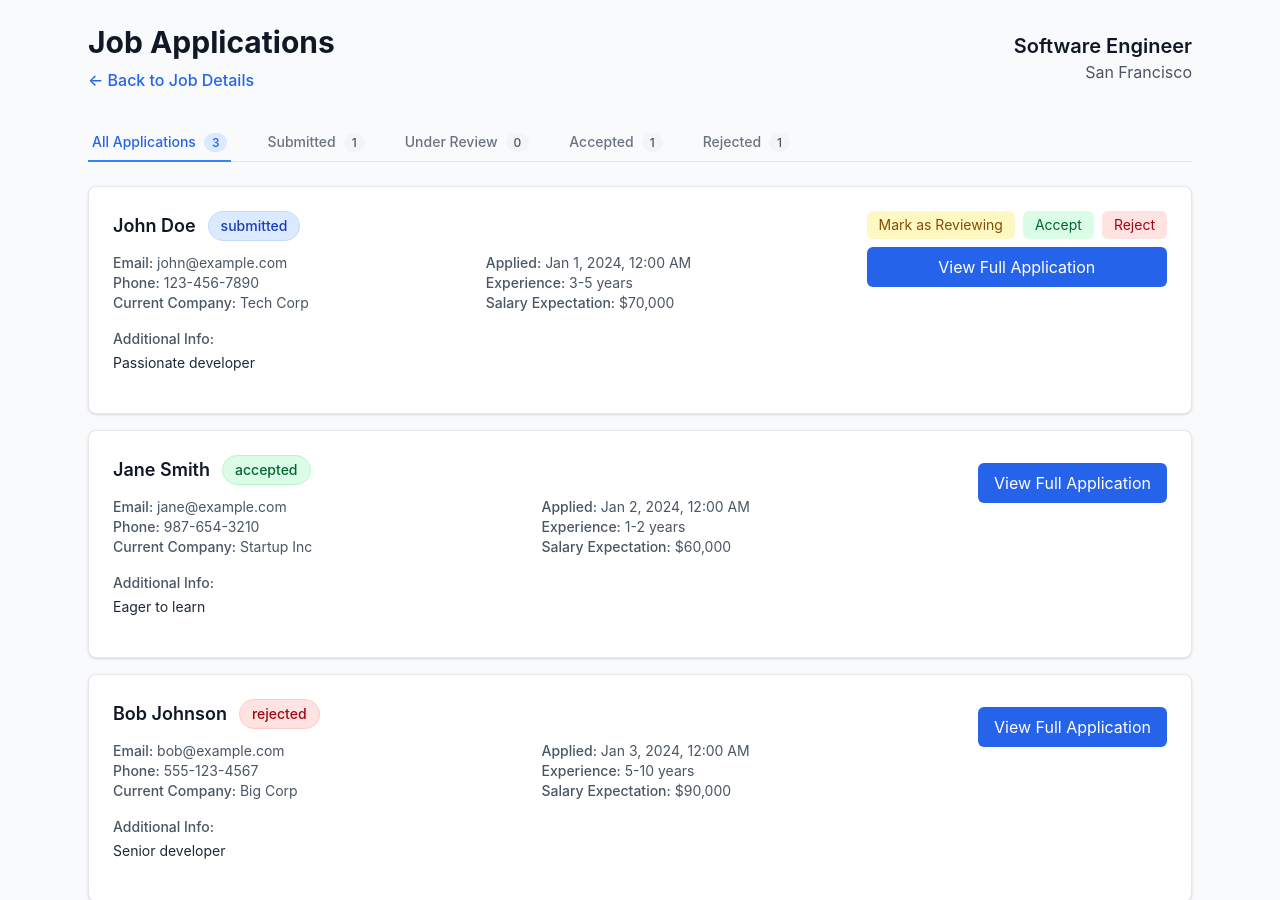
Scenario: JobApplications › filters applications by rejected status
The width and height of the screenshot is (1280, 900).
Expected: the button "All Applications3" is shown, [88, 124, 231, 162]
// Click on Rejected tab
Click the button "Rejected1".
click(746, 143)  # box [699, 124, 794, 162]
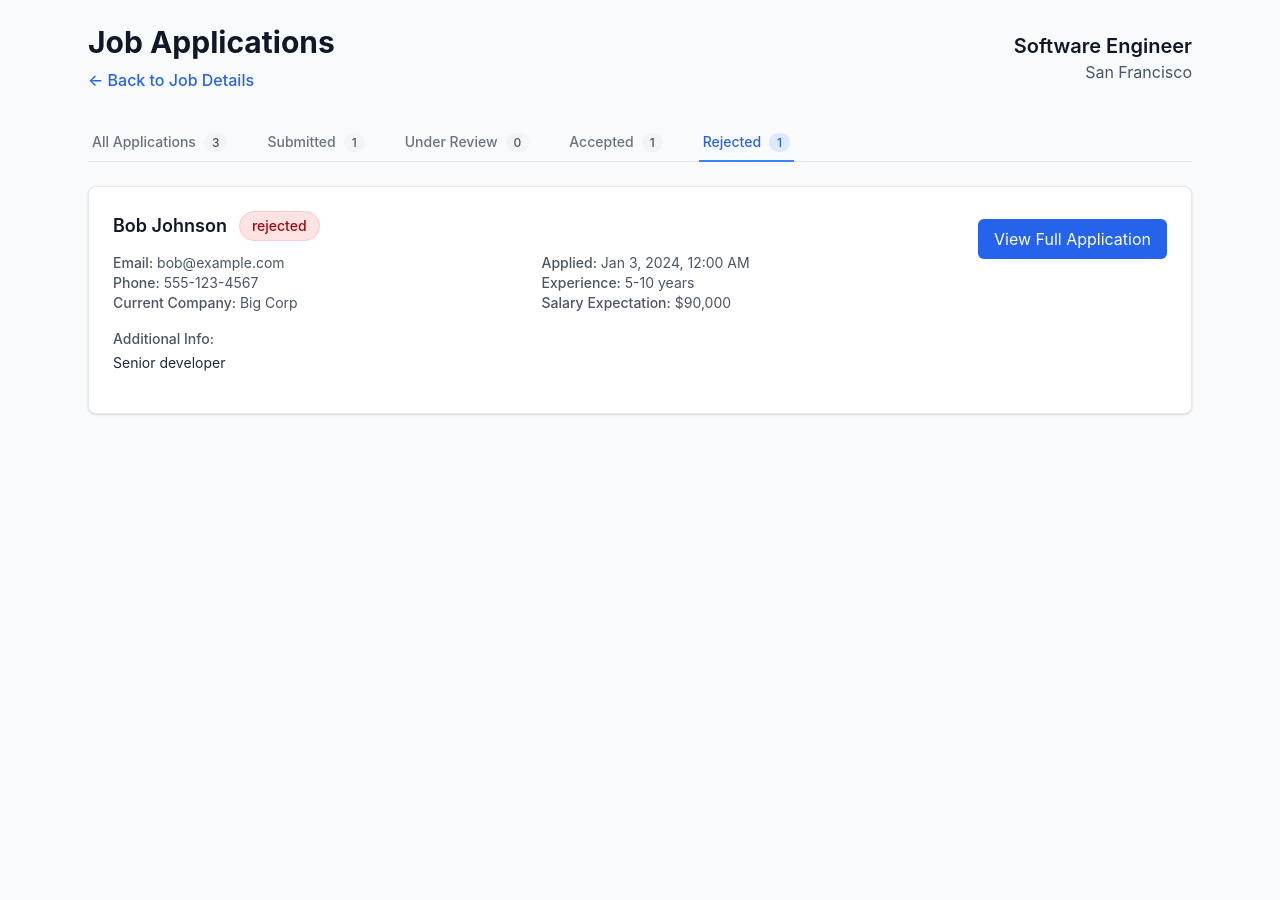
Expected: the heading "Bob Johnson" is shown, [113, 212, 227, 240]
Now the heading "John Doe" is gone
Now the heading "Jane Smith" is gone
